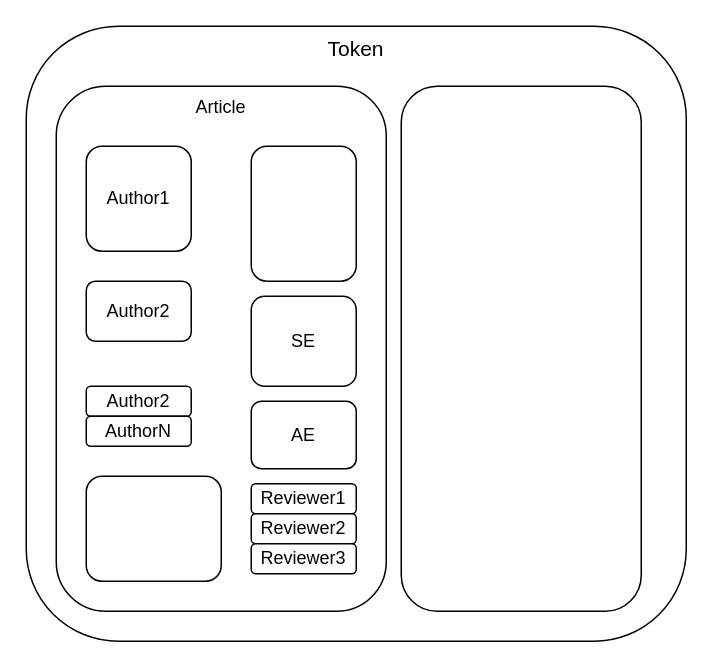
The diagram is 713 pixels wide and 668 high, and some of its shapes have lost their labels. Here are the shapes that lost their labels. From the top down, the centre of each, then its label:
pixel 303 213: EIC
pixel 520 348: Publisher
pixel 153 528: Corresponding Author
